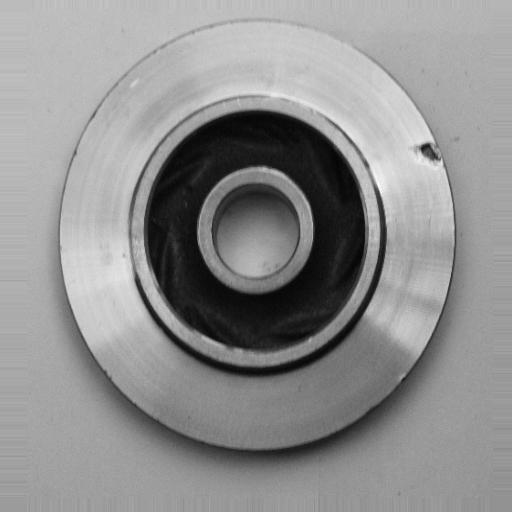crack: (405, 129, 451, 177)
unpolished_casting: (50, 19, 458, 459)
